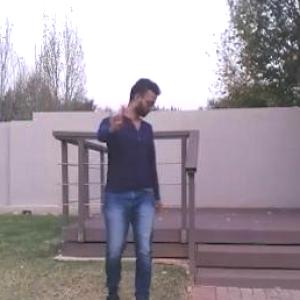takeoff-hand: (105, 93, 135, 135)
